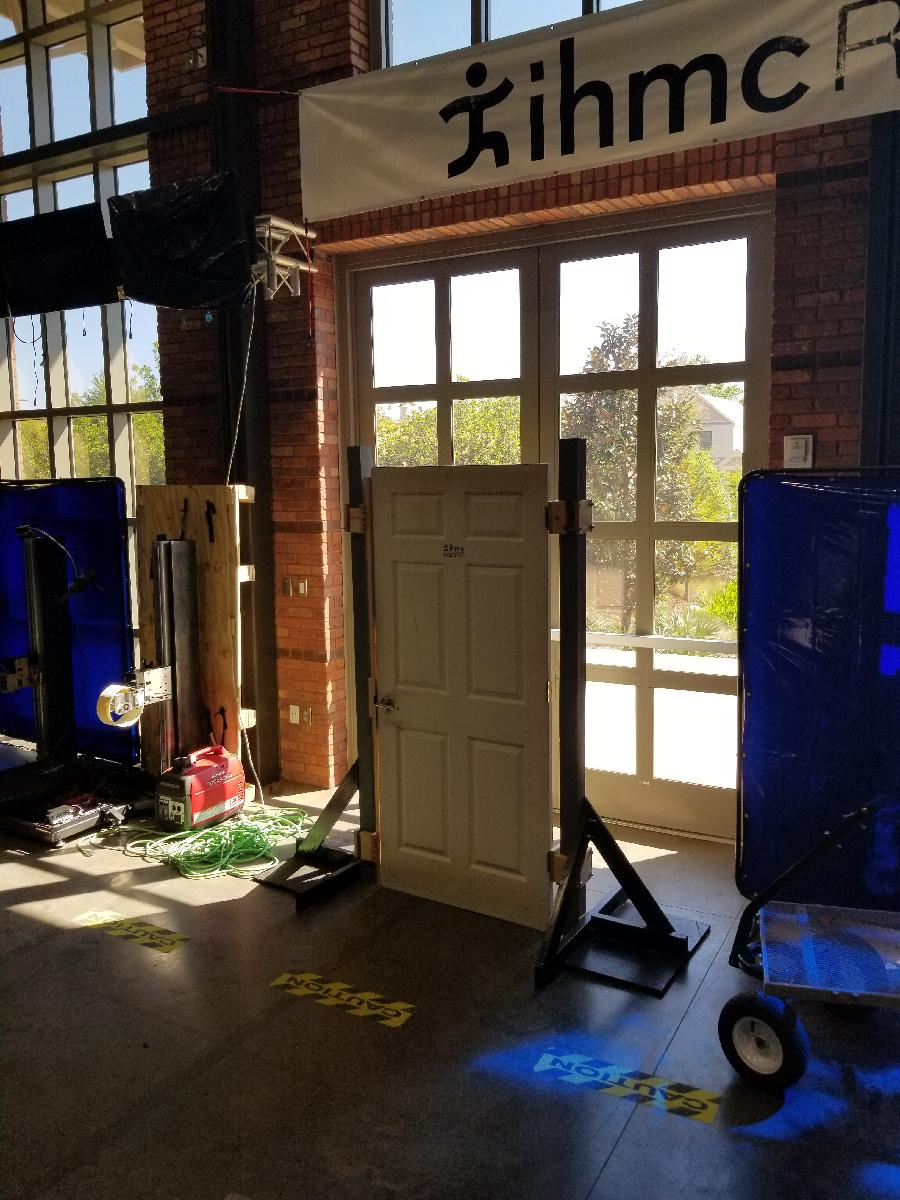door: (368, 463, 566, 946)
doorHandle: (371, 694, 404, 718)
